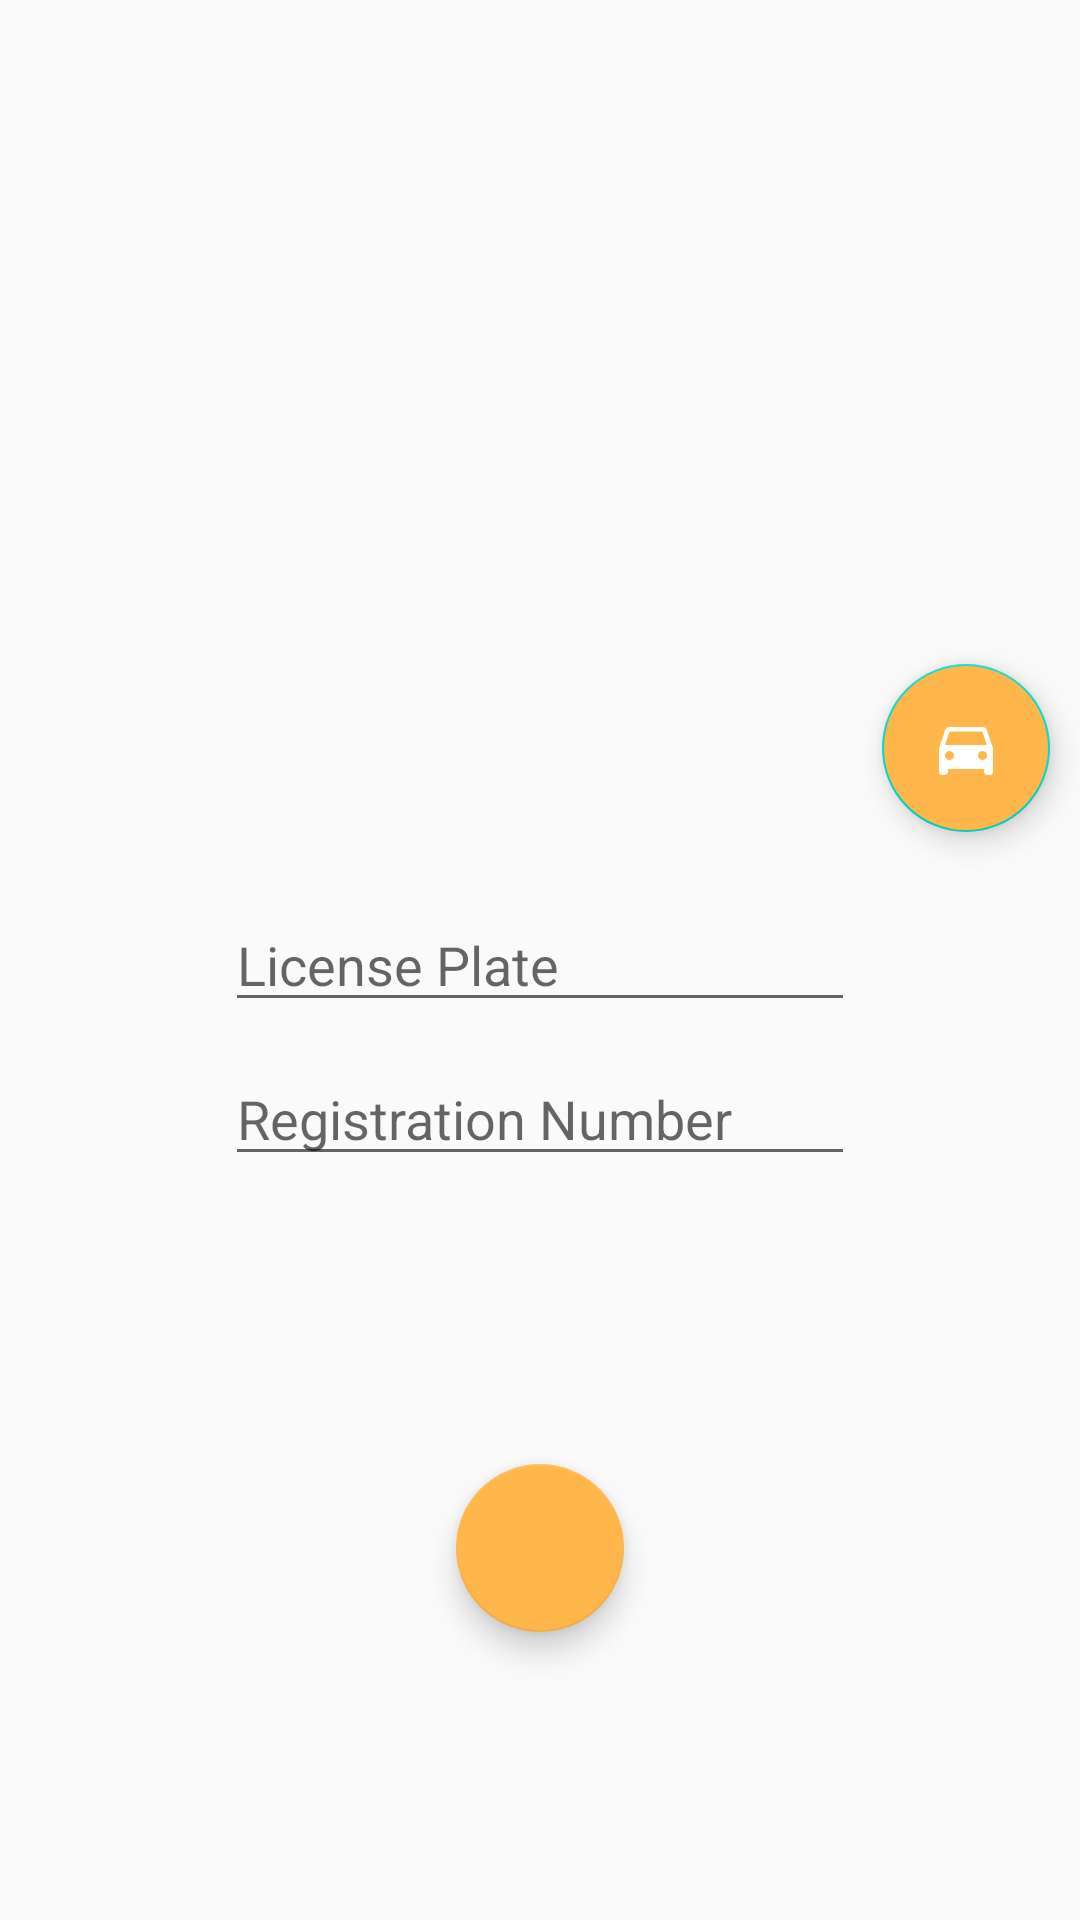

Locate icon controls on the screen. Image size 1080w x 1920h, boxes as (x1, y1, x2, y2).
vehicle searching: (882, 664, 1050, 832)
